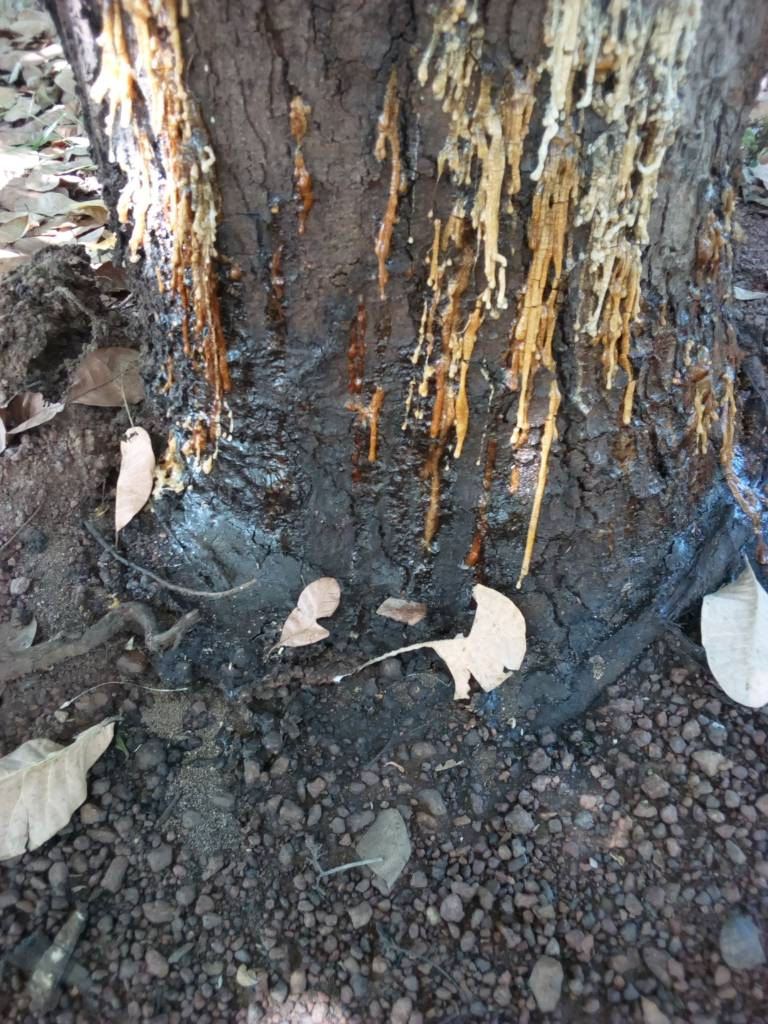Gommose: (408, 5, 744, 538), (85, 8, 232, 469), (333, 313, 380, 503)
